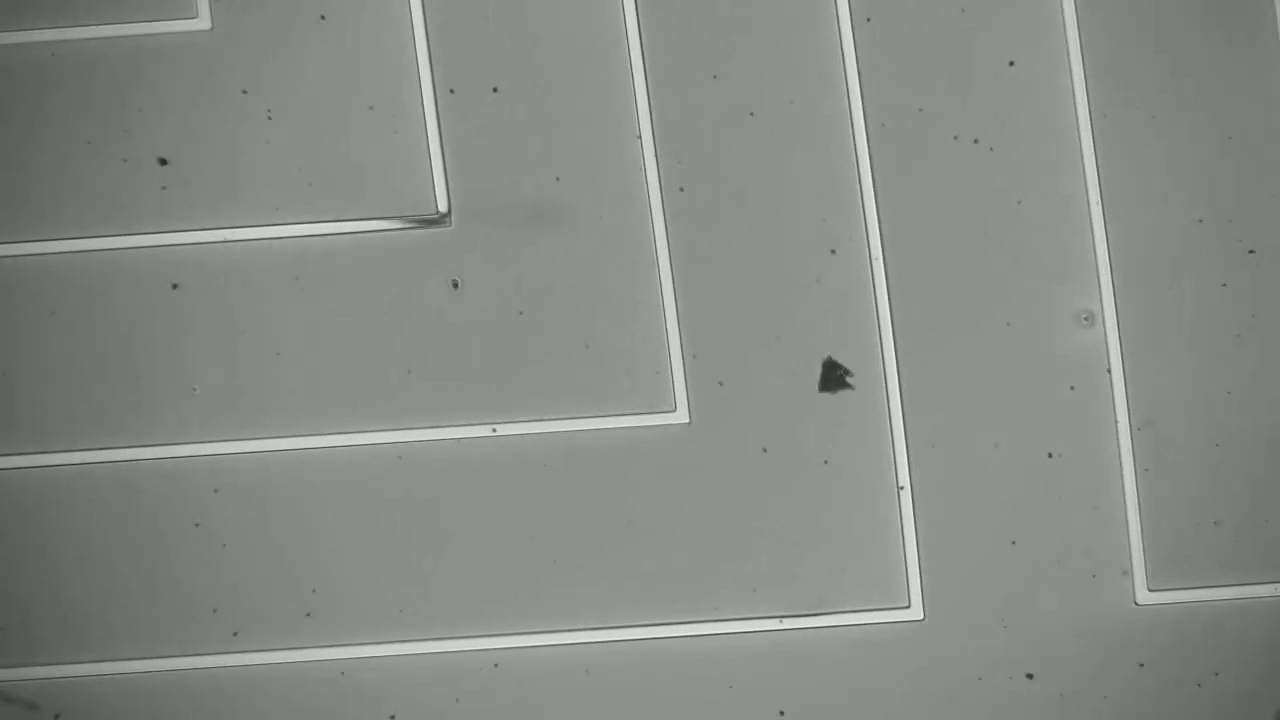gray_line: (383, 203, 463, 241)
